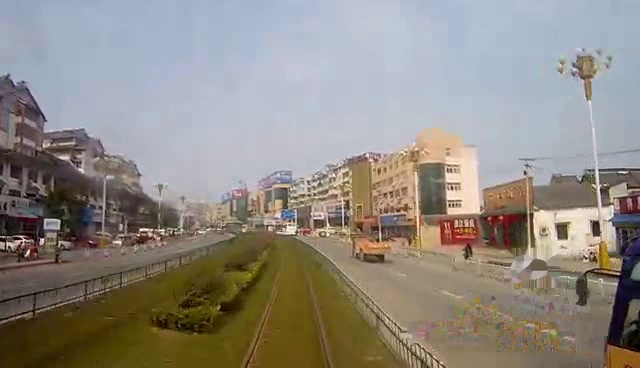car: (346, 232, 398, 269)
